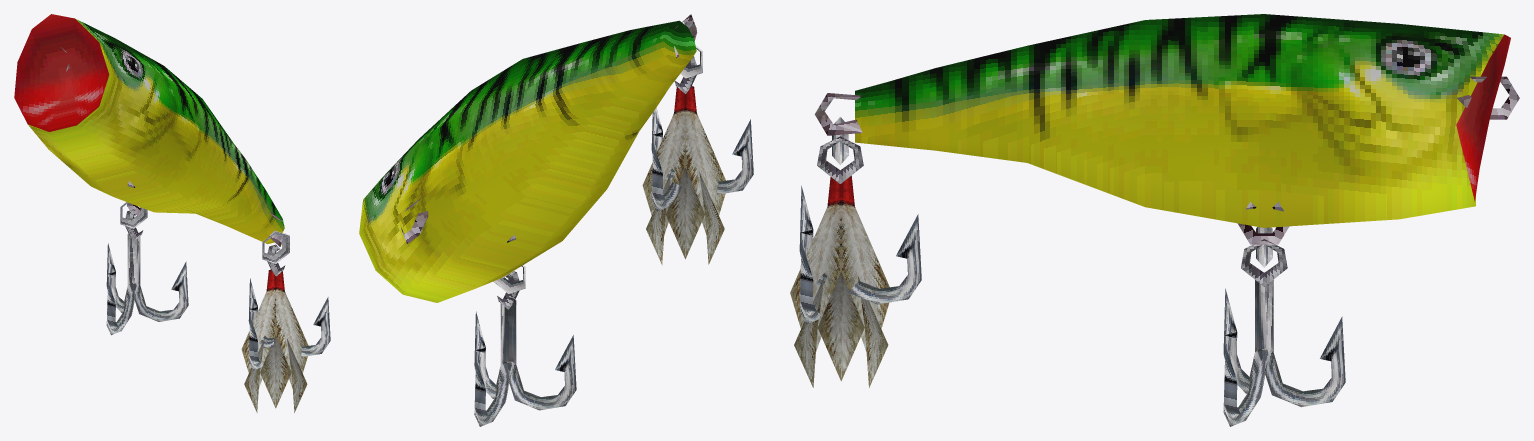
File: ps2_save-icons_fishermanschallenge.glb
3 views of the same model, side by side, from view 1: azimuth 30°, elevation 25°; view 2: azimuth 150°, elevation 25°; view 3: azimuth 270°, elevation 25° (orthographic). The views are drawn at different scales.
Visible parts, largest first — view 1: icon_n.ico; view 2: icon_n.ico; view 3: icon_n.ico.
Boxes of the visible parts, left/top/right/bottom form: icon_n.ico: left=14, top=14, right=330, bottom=412; icon_n.ico: left=359, top=14, right=753, bottom=426; icon_n.ico: left=790, top=14, right=1519, bottom=426.
Size of the model in its own units: 0.8203 by 1.85 by 3.19.
1 material, 1 textured.
